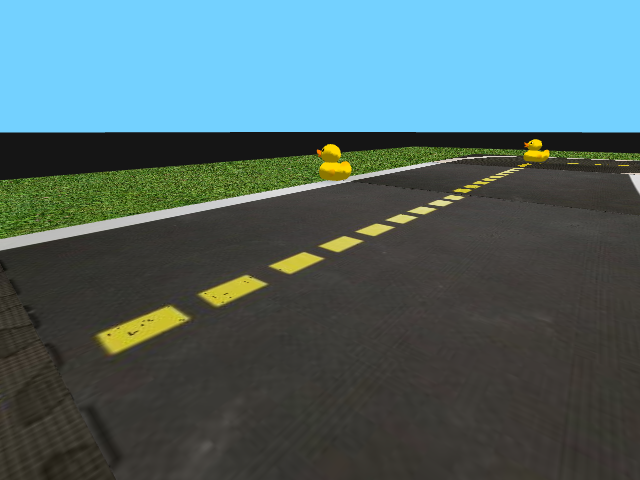Duckie: (314, 141, 353, 182), (521, 138, 549, 163)
